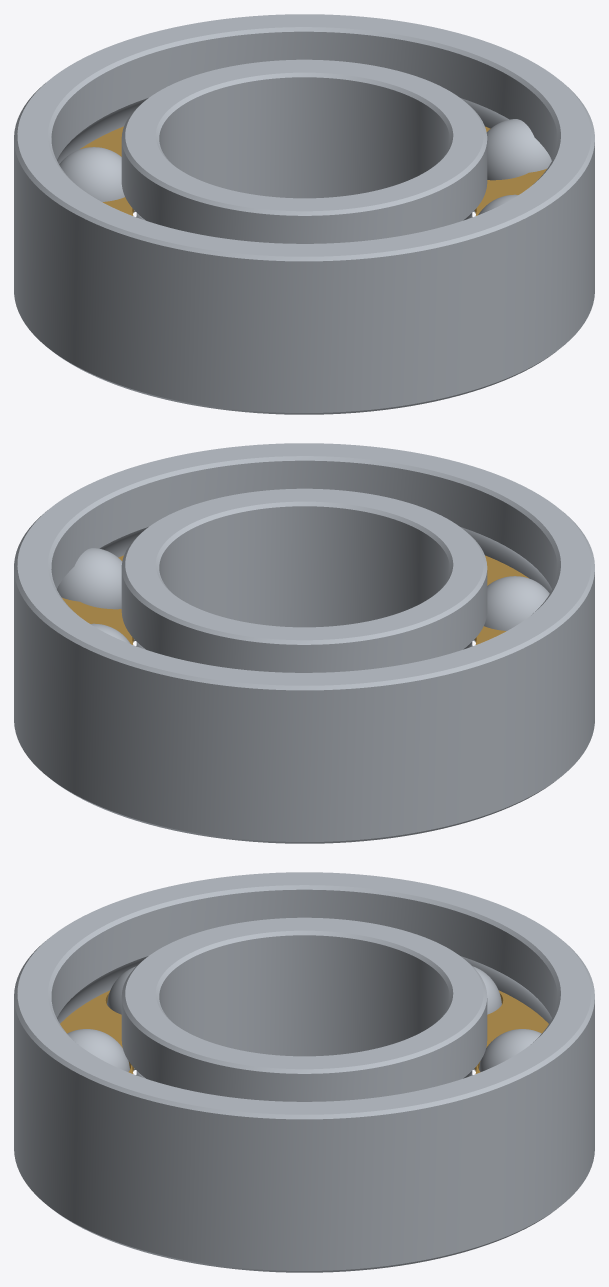
Rendered from edited.glb.
3 renders of one model, top to bottom at view 1: azimuth 30°, elevation 25°; view 2: azimuth 150°, elevation 25°; view 3: azimuth 270°, elevation 25°, orthographic.
Parts seen in each view (by area): view 1: outer_race, inner_race, ball_0000, ball_0005, cage; view 2: outer_race, inner_race, ball_0000, ball_0003, cage; view 3: outer_race, inner_race, cage, ball_0002, ball_0006.
Boxes of the visible parts, left/top/right/bottom form: outer_race: left=14, top=14, right=594, bottom=414; inner_race: left=121, top=59, right=487, bottom=243; ball_0000: left=486, top=119, right=551, bottom=180; ball_0005: left=59, top=147, right=124, bottom=201; cage: left=80, top=126, right=546, bottom=215; outer_race: left=14, top=443, right=594, bottom=843; inner_race: left=121, top=488, right=487, bottom=672; ball_0000: left=57, top=548, right=122, bottom=609; ball_0003: left=484, top=576, right=549, bottom=630; cage: left=62, top=555, right=528, bottom=644; outer_race: left=14, top=872, right=594, bottom=1272; inner_race: left=121, top=917, right=487, bottom=1101; cage: left=60, top=990, right=548, bottom=1073; ball_0002: left=67, top=1029, right=129, bottom=1071; ball_0006: left=479, top=1029, right=541, bottom=1071.
Size of the model in its own units: 0.02 by 0.006 by 0.02.
